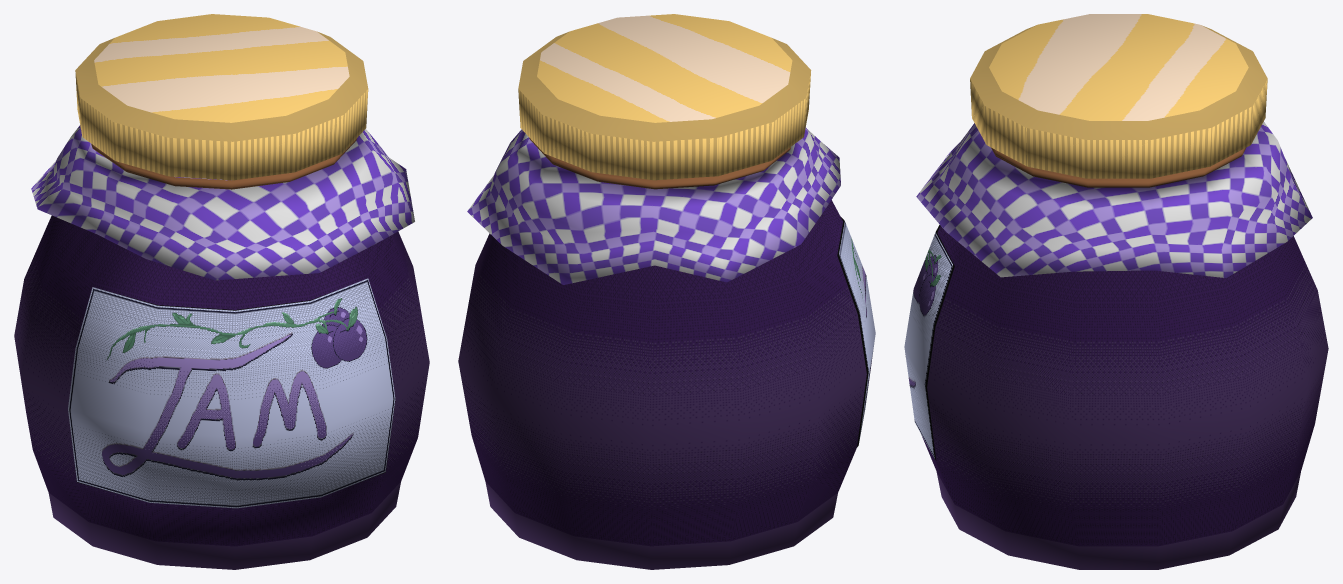
File: jam.fbx
The picture shows the model from 3 angles, left to right: view 1: azimuth 30°, elevation 25°; view 2: azimuth 150°, elevation 25°; view 3: azimuth 270°, elevation 25°; orthographic projection.
Visible parts, largest first — view 1: Cylinder; view 2: Cylinder; view 3: Cylinder.
Boxes of the visible parts, box(x1,y1,x2,y2) form: Cylinder: box(14, 14, 429, 569); Cylinder: box(458, 14, 875, 569); Cylinder: box(904, 14, 1328, 569).
Size of the model in its own units: 402 by 469 by 413.
